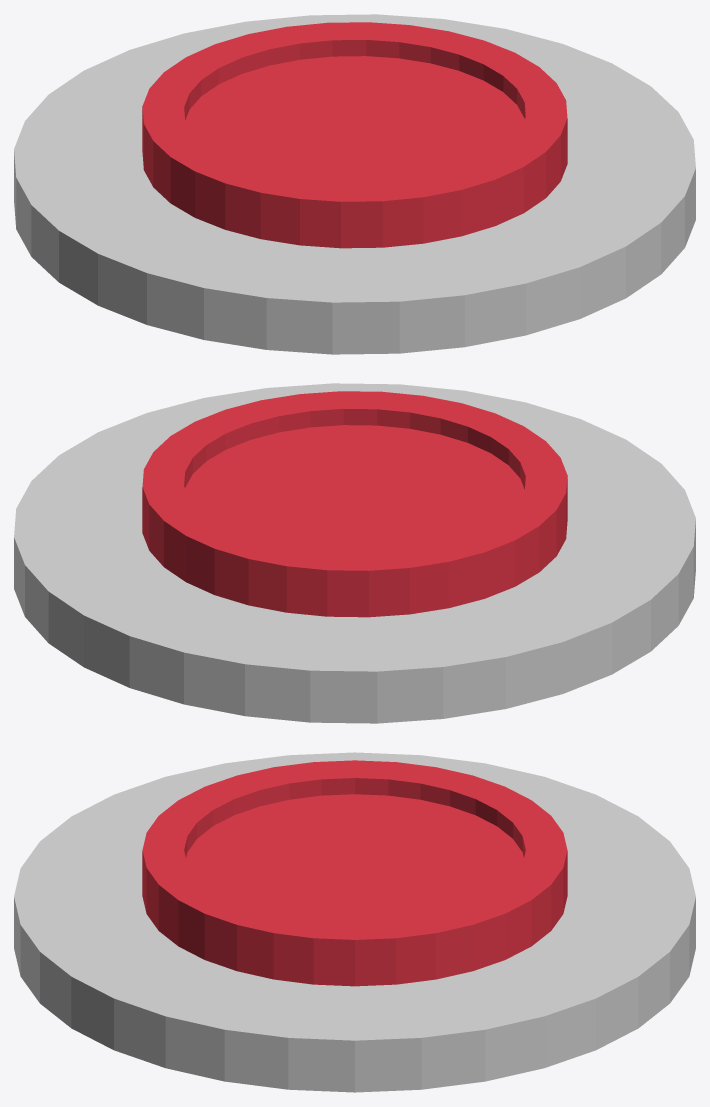
Rendered from Button.fbx.
3 views of the same model, one above another, from view 1: azimuth 30°, elevation 25°; view 2: azimuth 150°, elevation 25°; view 3: azimuth 270°, elevation 25° (orthographic).
Visible parts, largest first — view 1: Cylinder; view 2: Cylinder; view 3: Cylinder.
Part boxes in pixels (x1,y1,x2,y2): Cylinder: [14, 14, 695, 354]; Cylinder: [14, 383, 695, 723]; Cylinder: [14, 752, 695, 1092].
Size of the model in its own units: 210 by 33.45 by 210.
